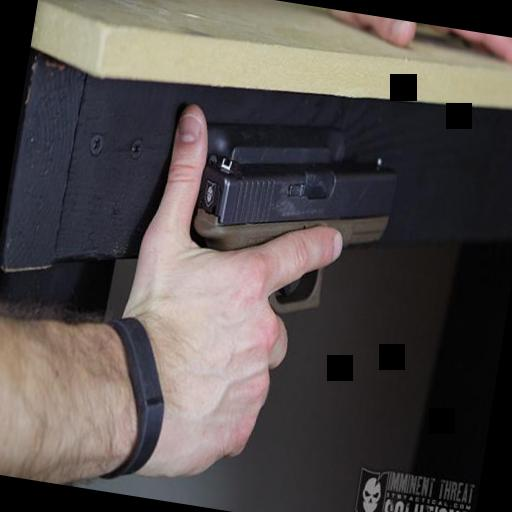Handgun: (178, 112, 404, 324)
